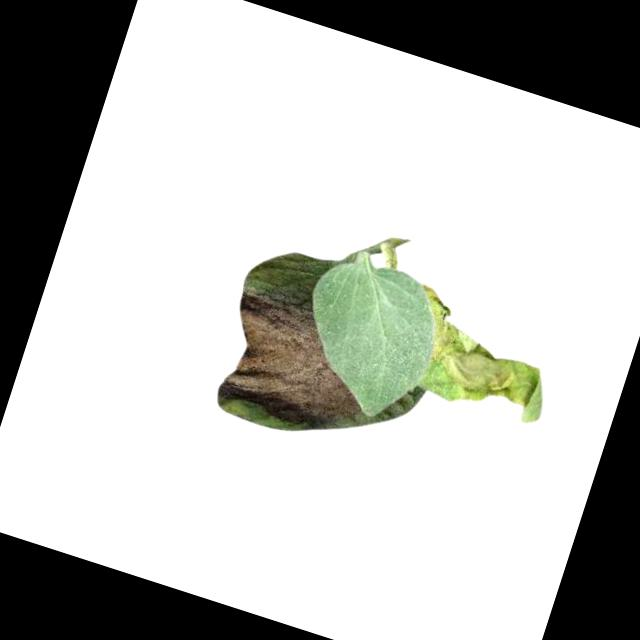Late_blight: (204, 281, 386, 442), (392, 282, 568, 426)
